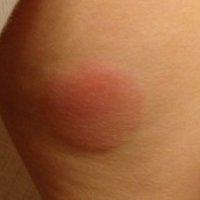Mosquito: (50, 71, 142, 151)
